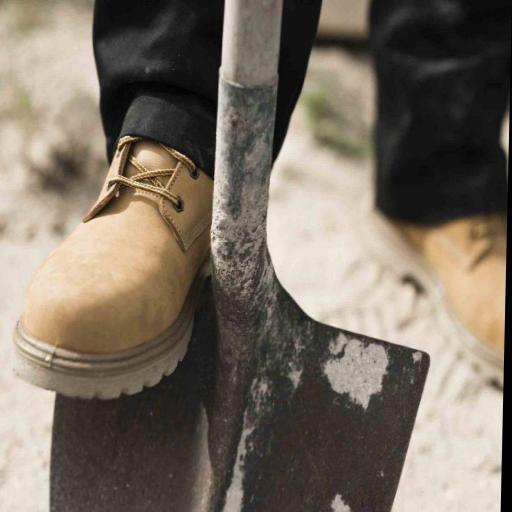safety_boots: (8, 183, 223, 403), (420, 234, 512, 365)
